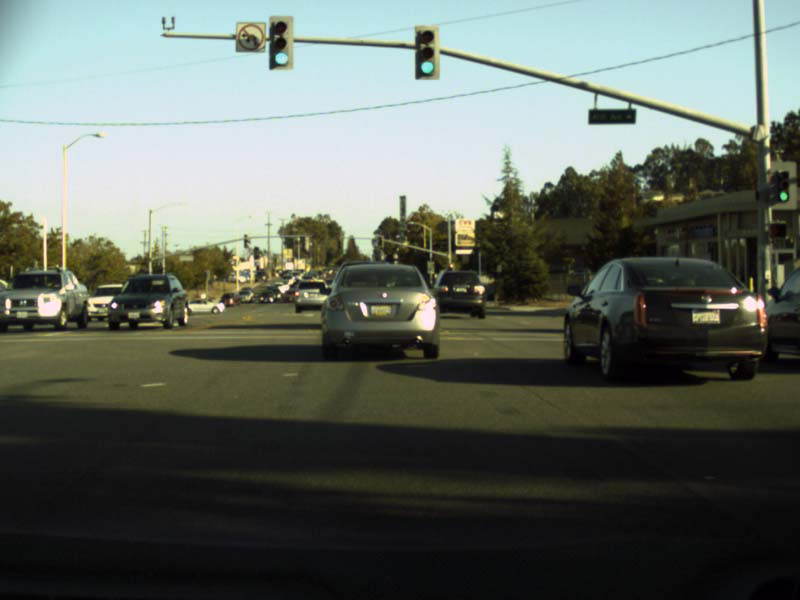Green: (414, 26, 439, 79), (268, 16, 292, 69), (776, 170, 789, 202)
